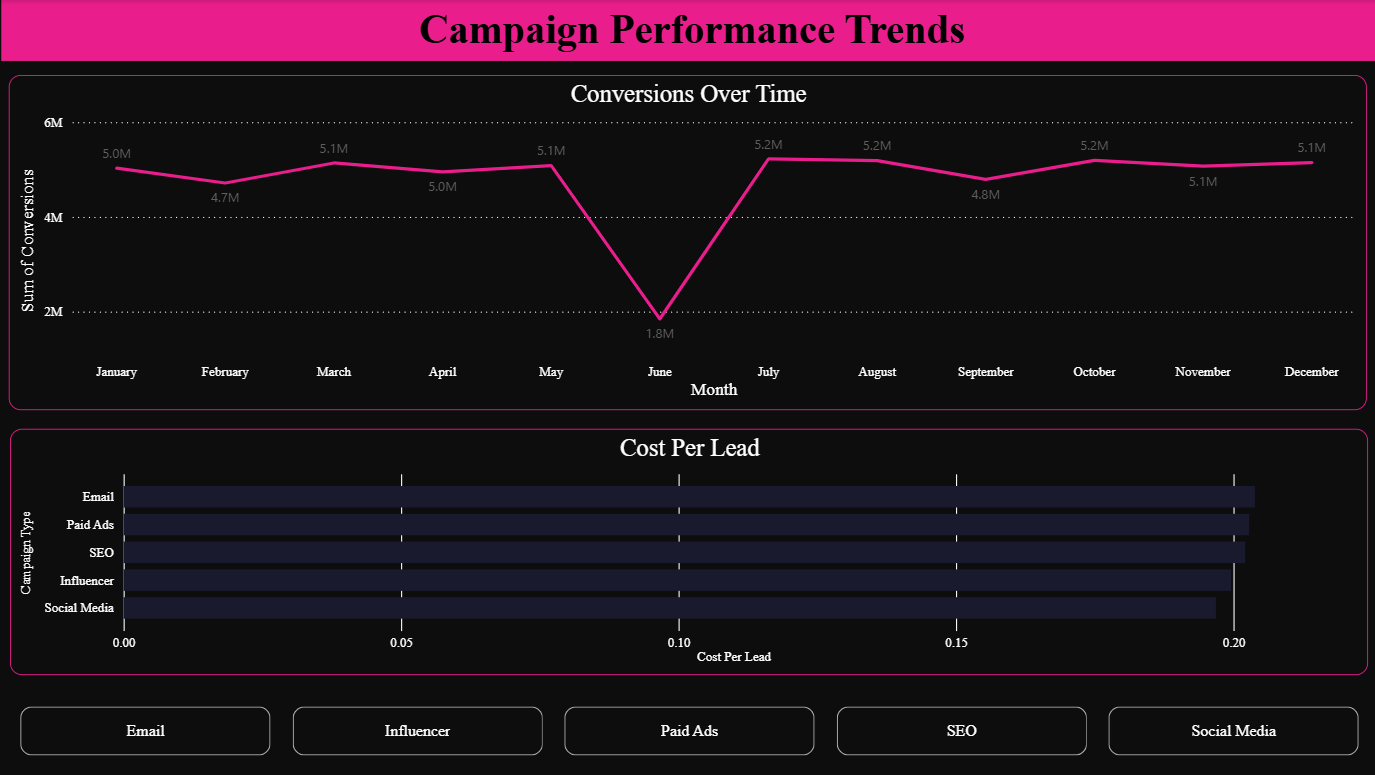

Layout of this report page (visuals, bound fields, positions):
{"tool":"powerbi","page":{"name":"Performance Trends","canvas":[1280,720],"ordinal":1},"visuals":[{"type":"lineChart","title":"Conversions Over Time","fields":{"Y":["Sum(nykaa_campaign_data.Conversions)"],"Category":["nykaa_campaign_data.Date.Variation.Date Hierarchy.Month"]},"box":[12.3,69,1247.7,307.9],"z":0},{"type":"textbox","box":[5.3,0,1269.4,55.8],"z":1000},{"type":"clusteredBarChart","title":"Cost Per Lead","fields":{"Category":["nykaa_campaign_data.Campaign_Type"],"Y":["nykaa_campaign_data.Cost Per Lead"]},"box":[13.5,394.2,1247.7,226.6],"z":2000},{"type":"advancedSlicerVisual","title":"Campaign Type","fields":{"Values":["nykaa_campaign_data.Campaign_Type"]},"box":[18.5,644.2,1244,55.4],"z":3000}]}

Visuals, with their boxes in screenshot pixels (x1, y1, x2, y2), scaled from the page's 1280x720 canvas onto the 1375x775 screenshot:
"Conversions Over Time" lineChart: pyautogui.locateOnScreen(13, 74, 1354, 406)
textbox: pyautogui.locateOnScreen(6, 0, 1369, 60)
"Cost Per Lead" clusteredBarChart: pyautogui.locateOnScreen(15, 424, 1355, 668)
"Campaign Type" advancedSlicerVisual: pyautogui.locateOnScreen(20, 693, 1356, 753)
